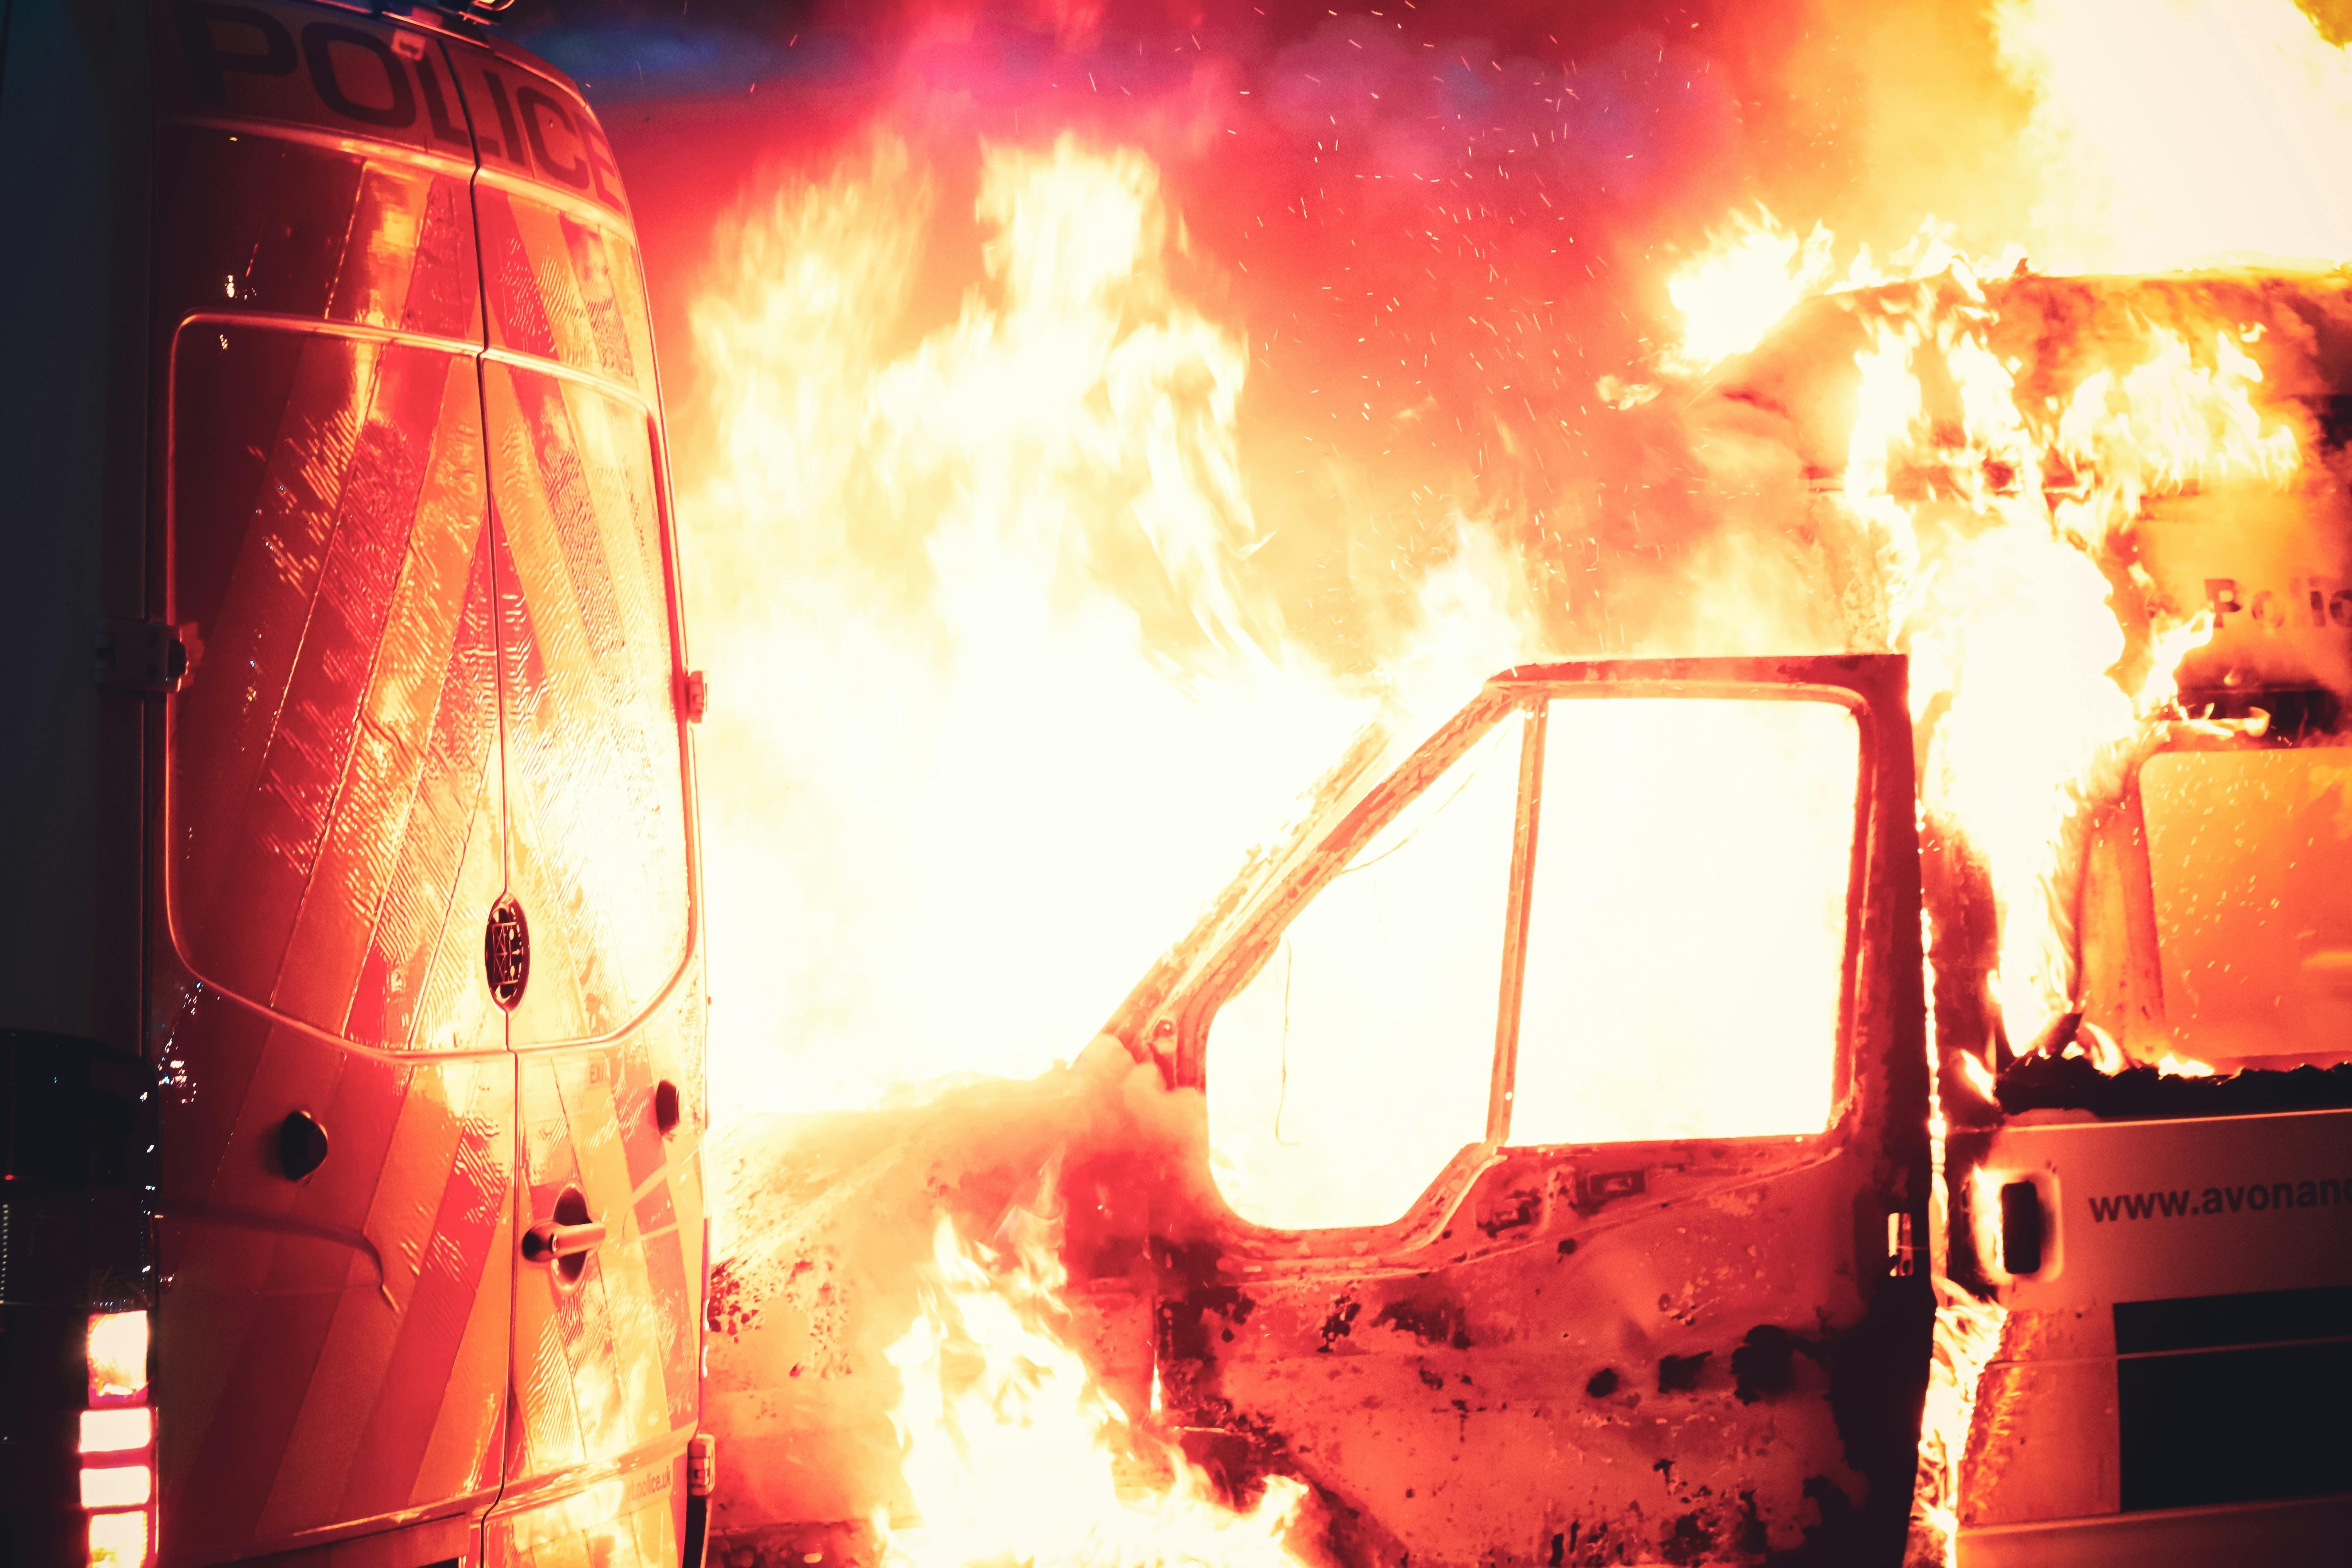smoke: (700, 138, 2282, 1045), (852, 1208, 1302, 1568)
